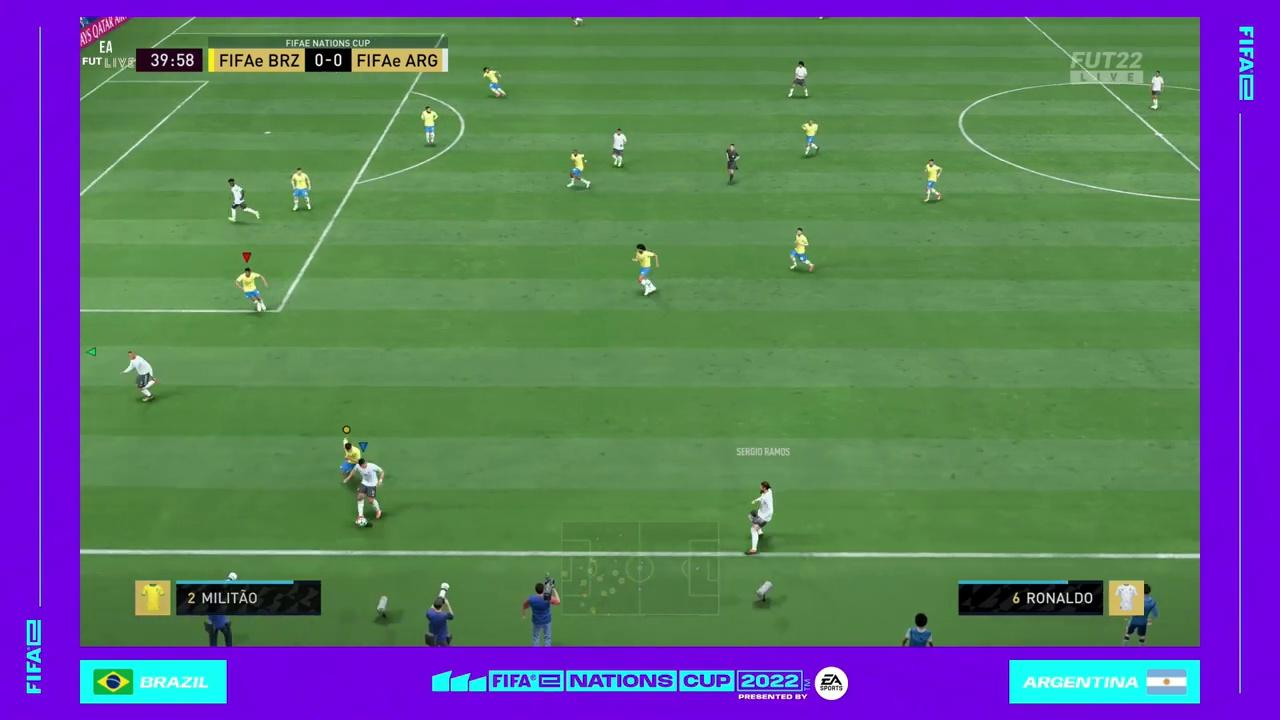scoreboard: (205, 49, 449, 74)
timestamp: (137, 47, 205, 73)
